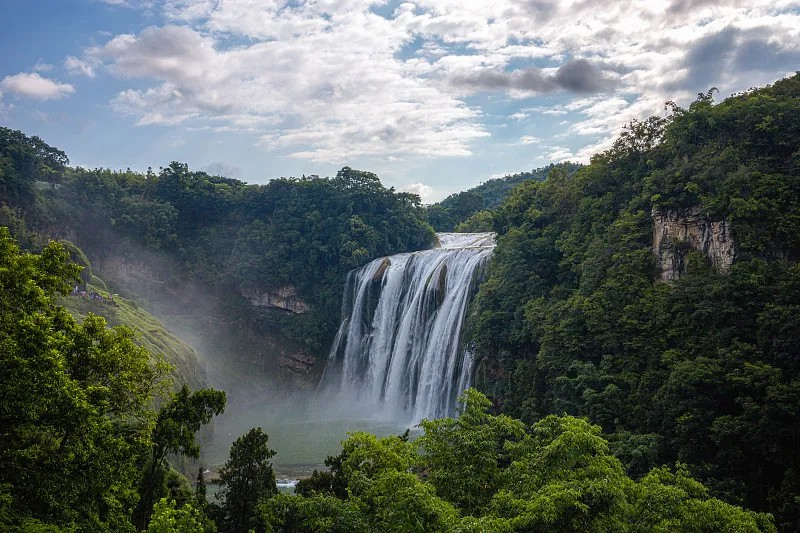Huangguoshu: (324, 233, 497, 415)
